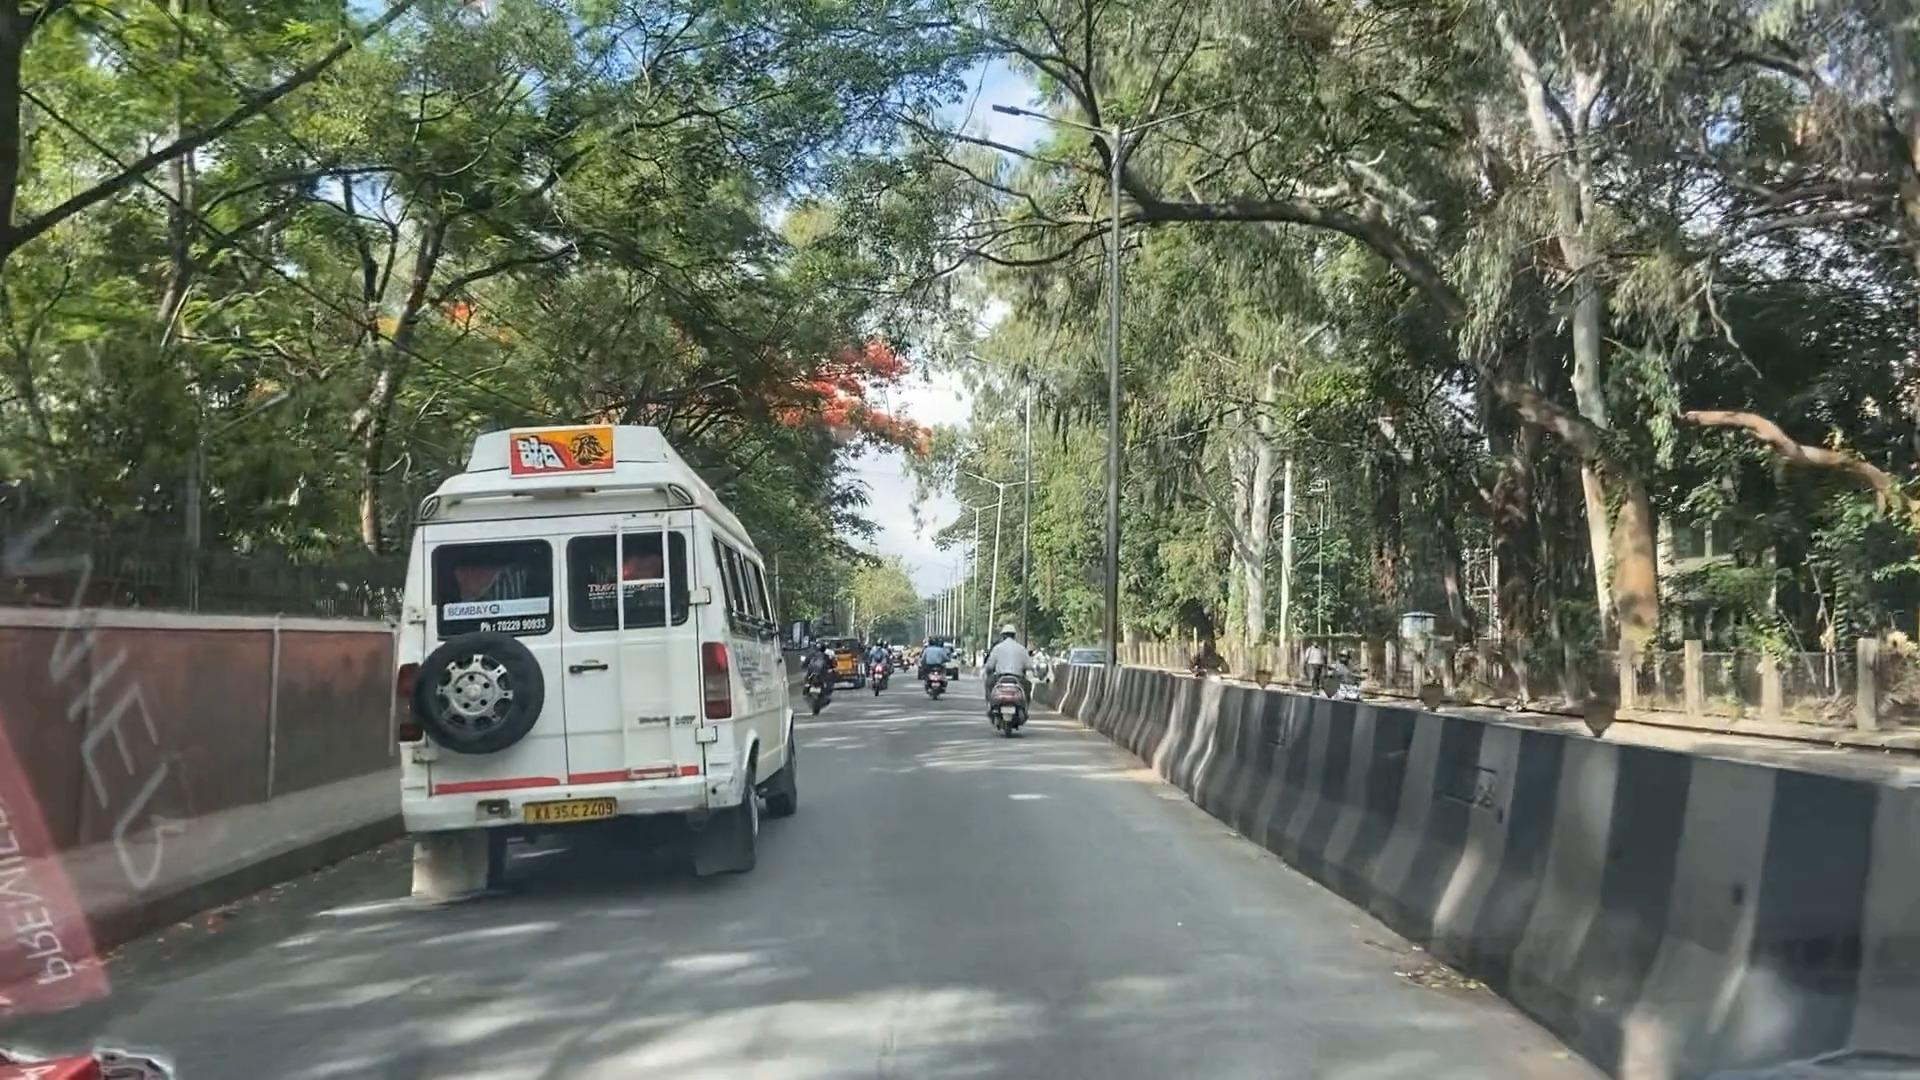HMV: (401, 446, 753, 876)
LMV: (990, 626, 1030, 738), (913, 630, 948, 695)
